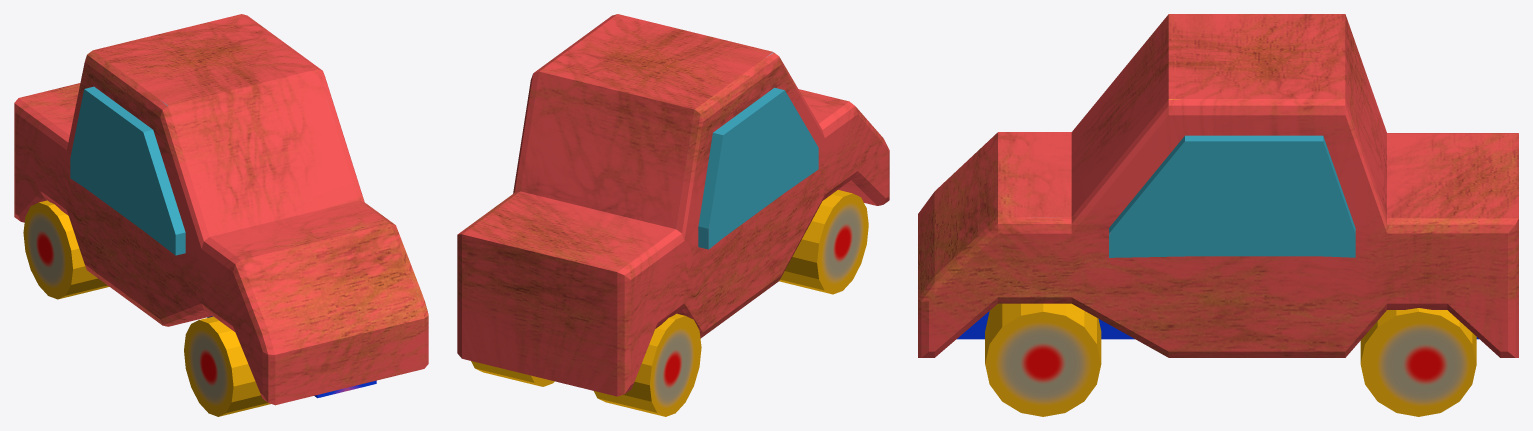
The model's file is Car.fbx.
The picture shows the model from 3 angles, left to right: view 1: azimuth 30°, elevation 25°; view 2: azimuth 150°, elevation 25°; view 3: azimuth 270°, elevation 25°; orthographic projection. The views are drawn at different scales.
Visible parts, largest first — view 1: Plane.031, Plane.033, Cylinder.016; view 2: Plane.031, Cylinder.016, Plane.033; view 3: Plane.031, Plane.033, Cylinder.016, Plane.032.
Boxes of the visible parts, <box> form: Plane.031: <box>14,14,428,405</box>; Plane.033: <box>70,86,185,255</box>; Cylinder.016: <box>23,200,270,416</box>; Plane.031: <box>457,14,889,396</box>; Cylinder.016: <box>471,190,868,416</box>; Plane.033: <box>698,87,818,249</box>; Plane.031: <box>918,14,1518,357</box>; Plane.033: <box>1109,135,1355,257</box>; Cylinder.016: <box>985,303,1476,416</box>; Plane.032: <box>957,311,1478,339</box>.
Size of the model in its own units: 299 by 410 by 718.
1 material, 1 textured.
